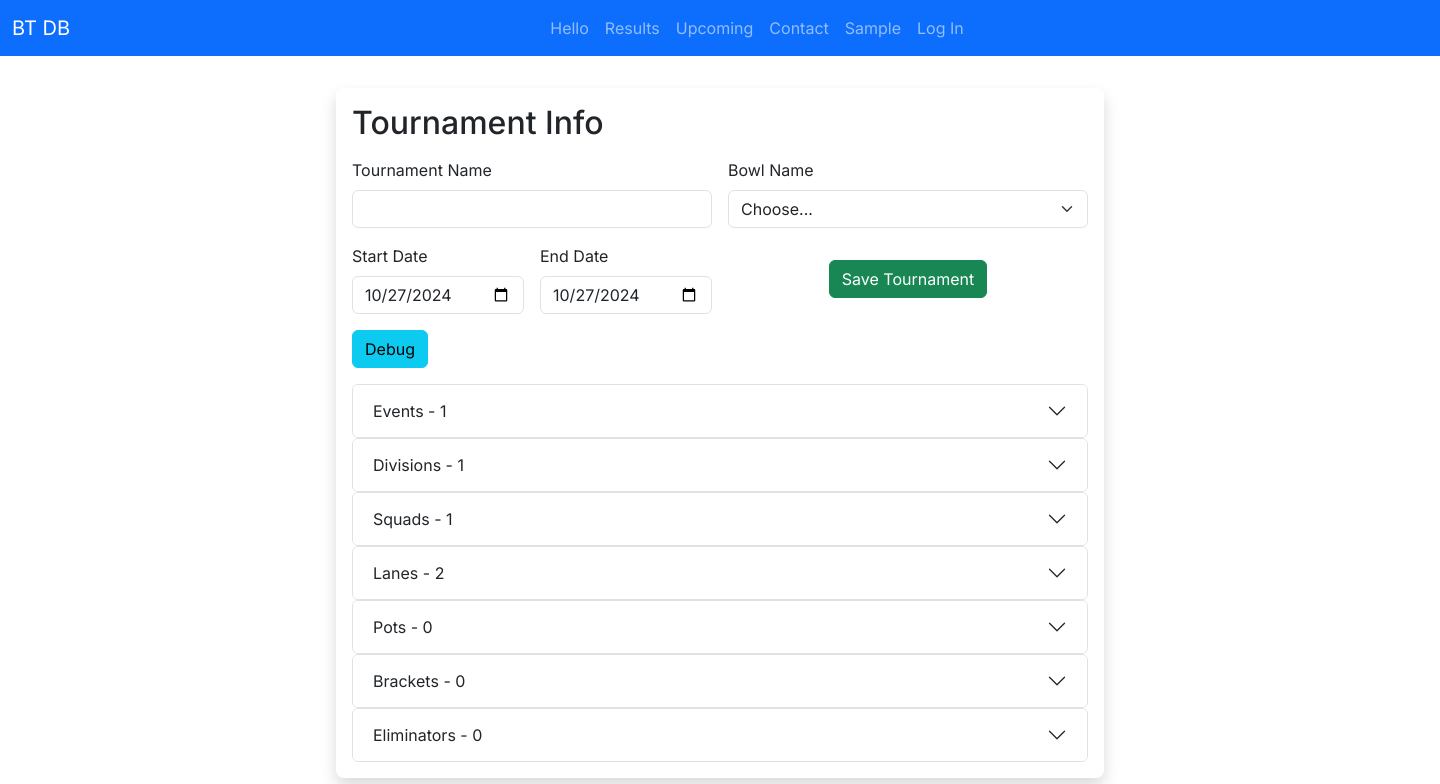
Test: TmntDataPage - Event Component › changing Event Games changes squad event games › changing event games to invalid value changes squad event games to last valid value
Click the button "Events - 1".
click(406, 411)  # box [353,385,1087,437]
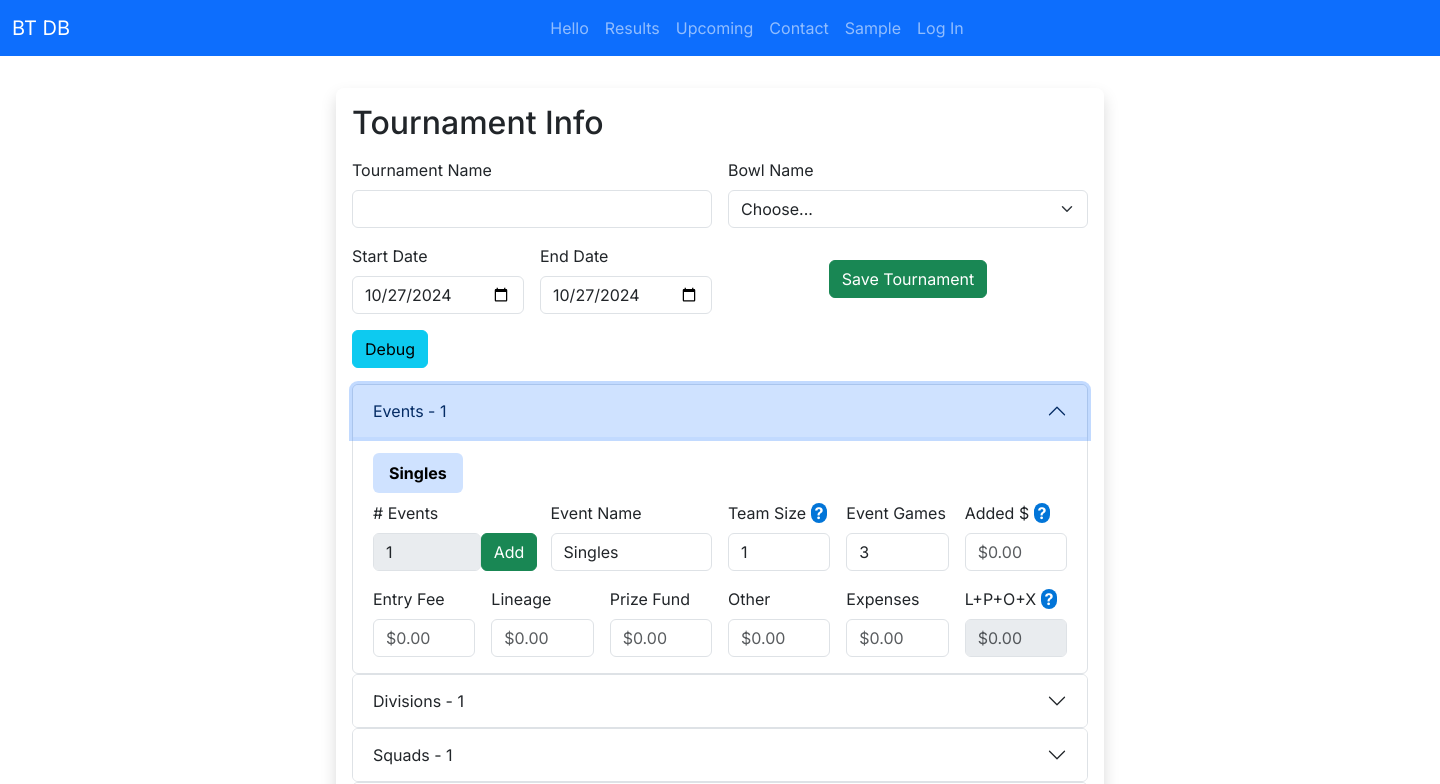
expect the number of number fields labelled "Event Games" is 1: met
Clear the number field labelled "Event Games" at coordinates (897, 552), box [846,533,949,571]
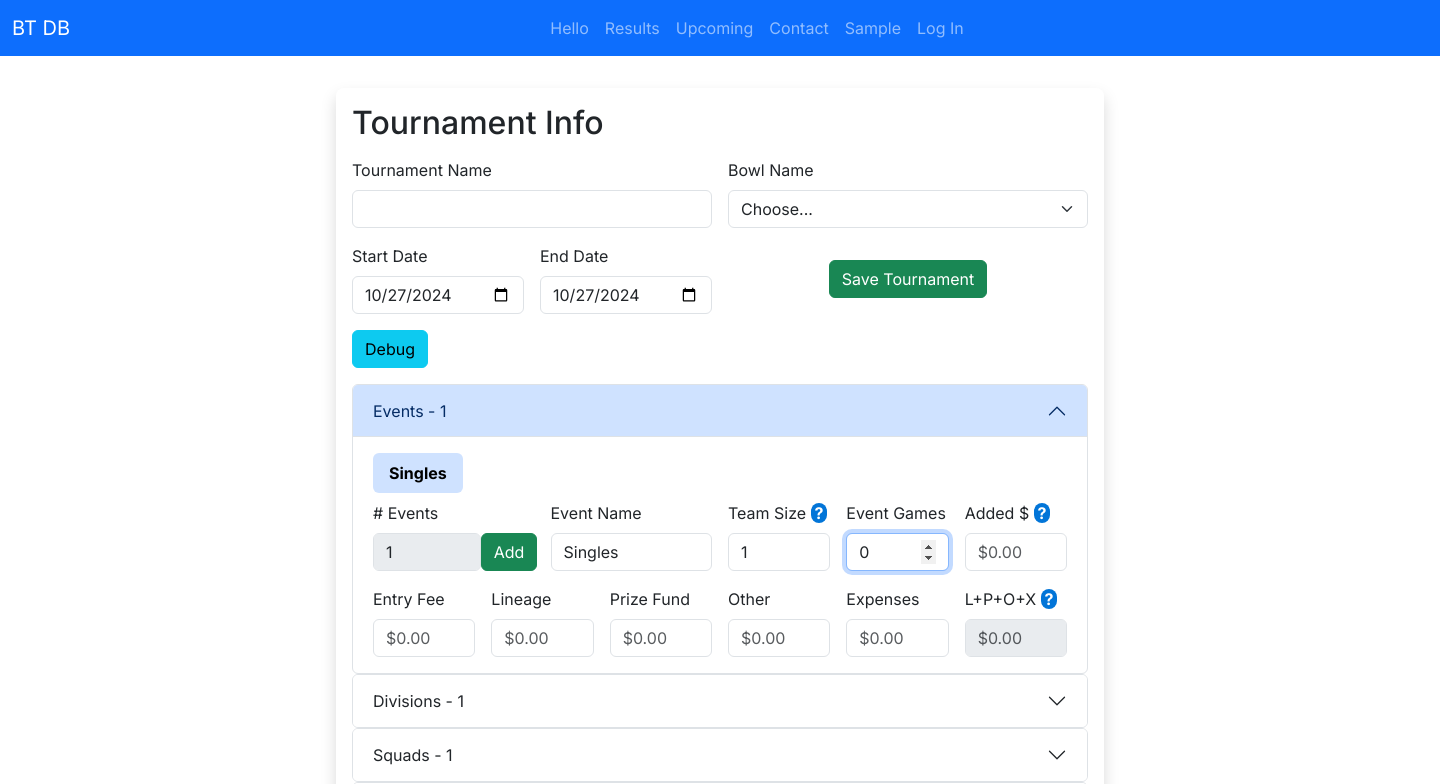
expect the number field labelled "Event Games" holds "0": met
Type "123" into the number field labelled "Event Games".
click(897, 552); type("123")  # box [846,533,949,571]
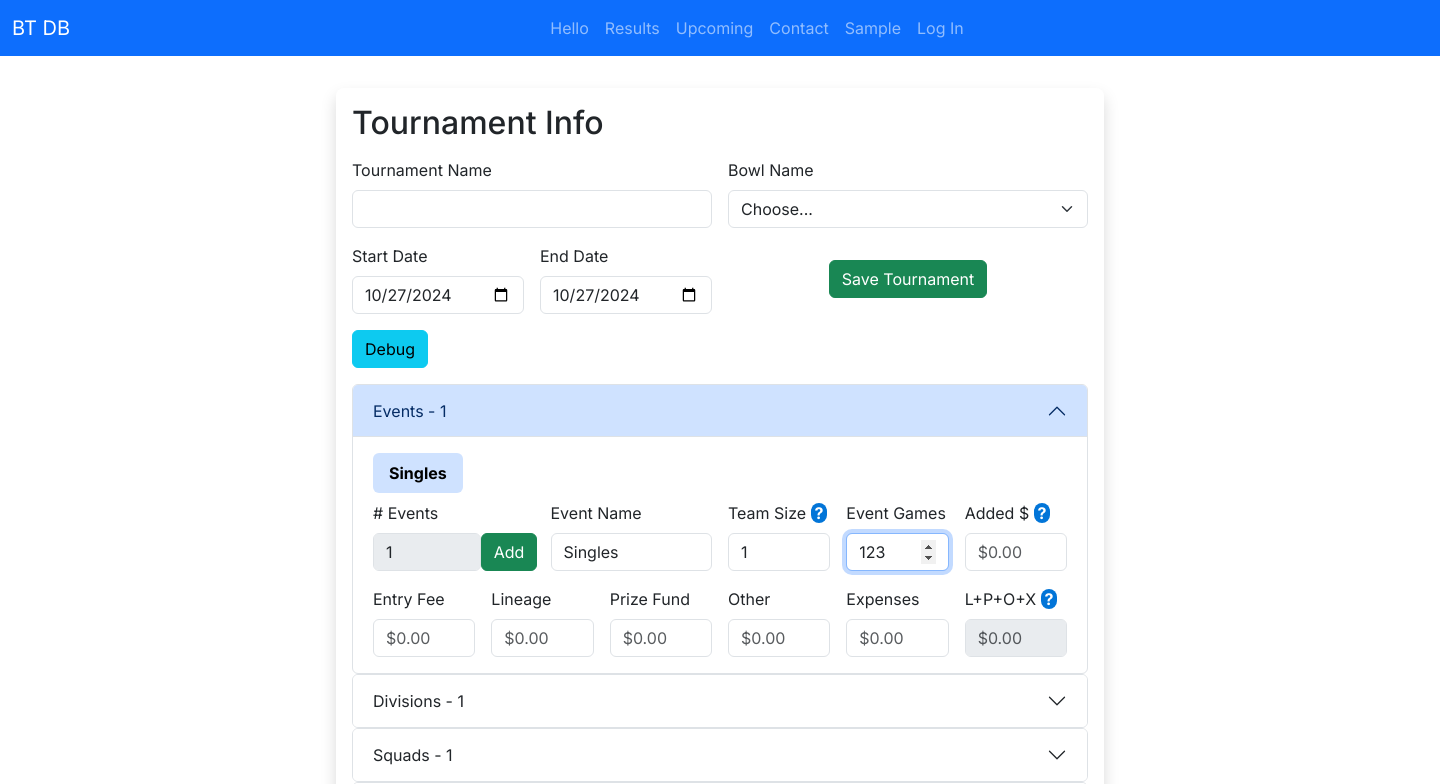
Click the button "Squads - 1".
click(410, 755)  # box [353,729,1087,781]
(page scrolled)
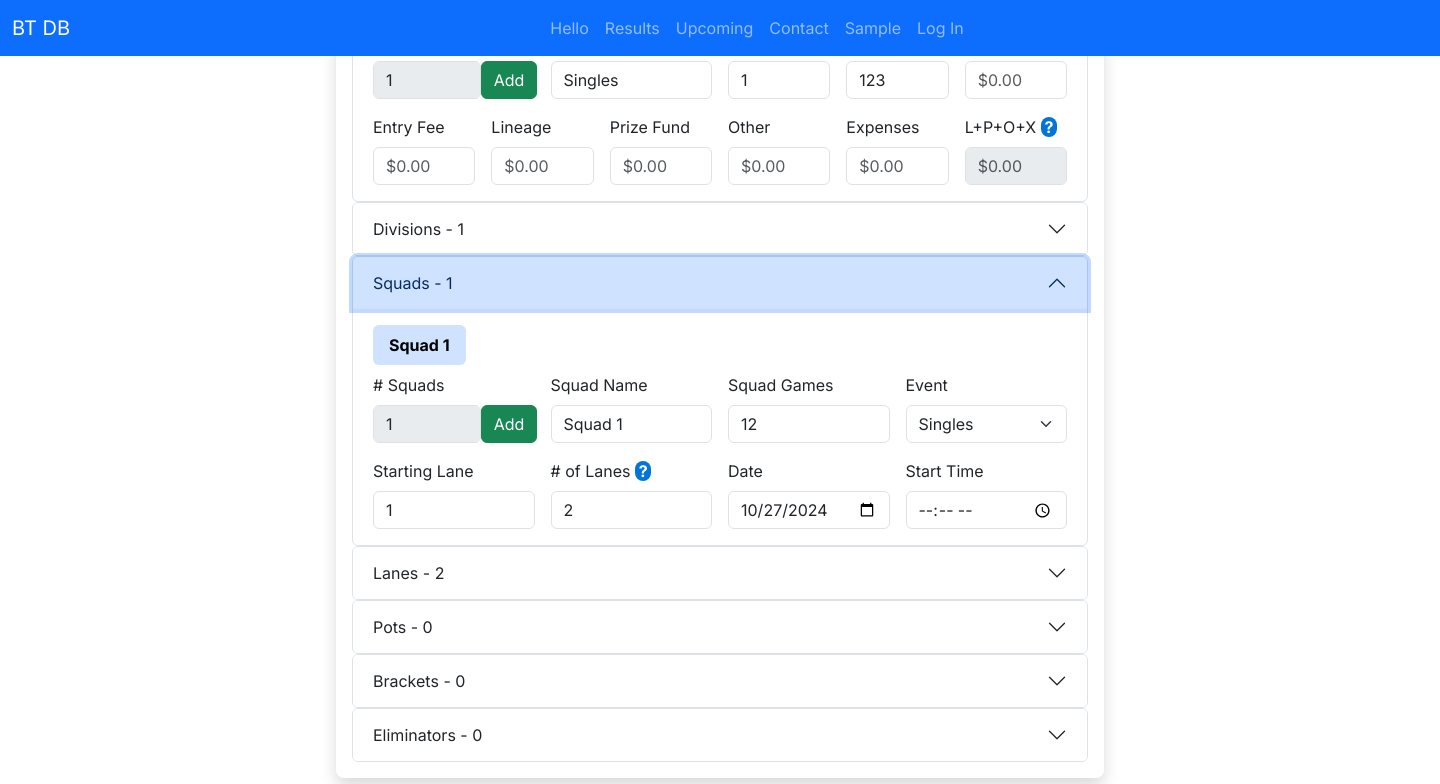
expect the number of number fields labelled "Squad Games" is 1: met, box [728,405,890,443]
expect the number field labelled "Squad Games" holds "12": met, box [728,405,890,443]
